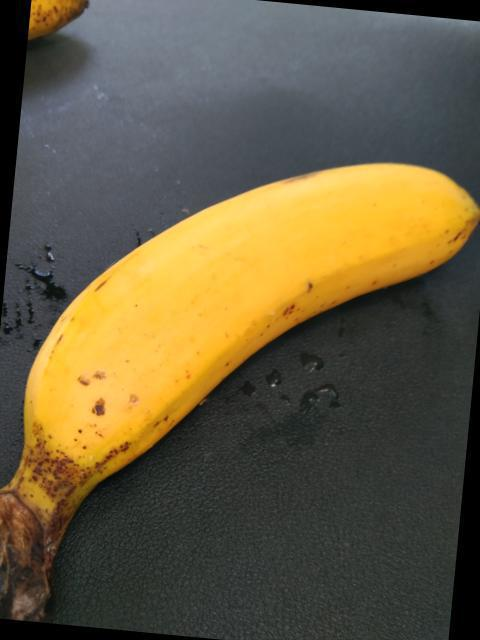freshripe: (15, 118, 479, 479)
